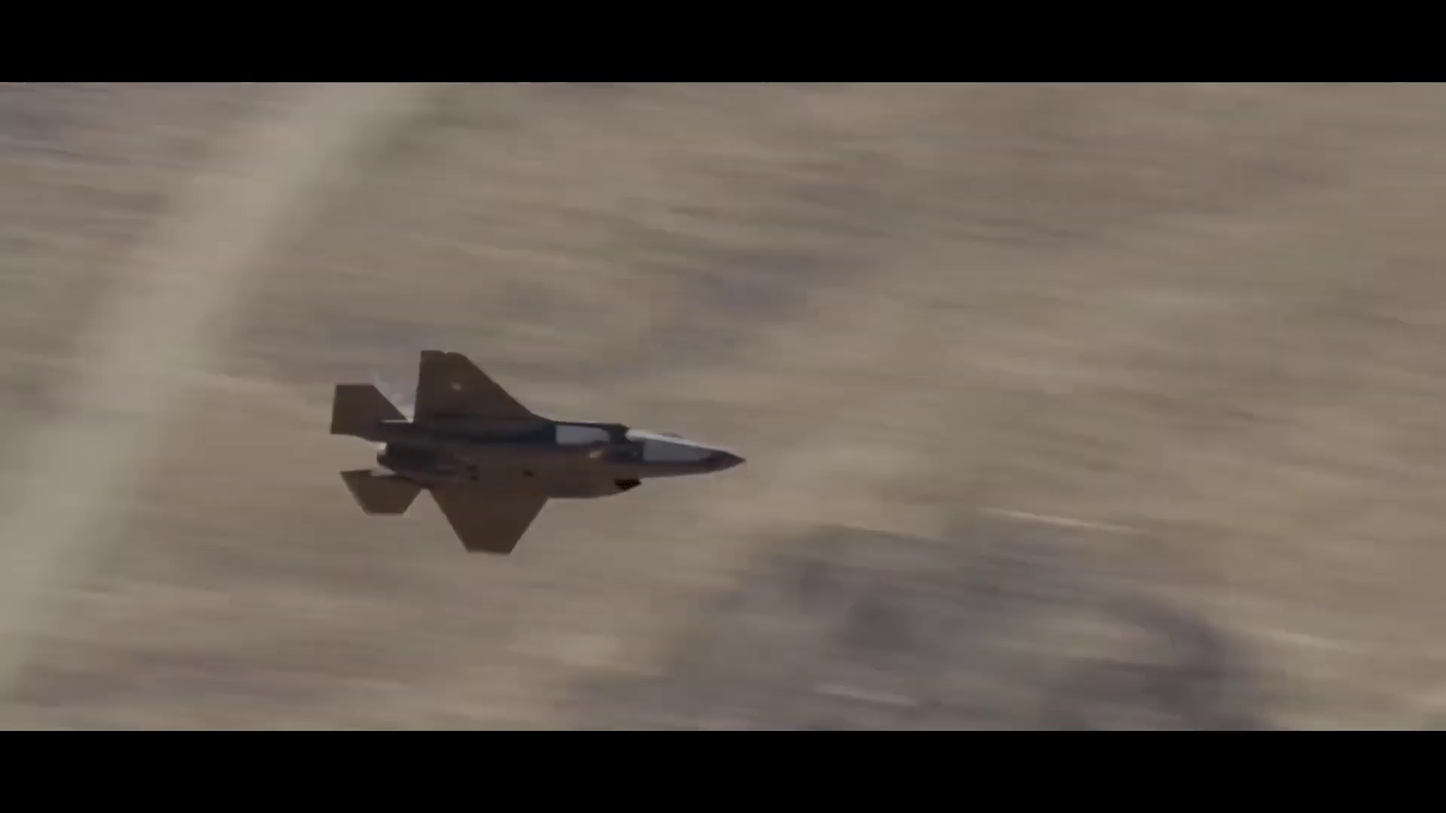F35: (322, 344, 755, 562)
